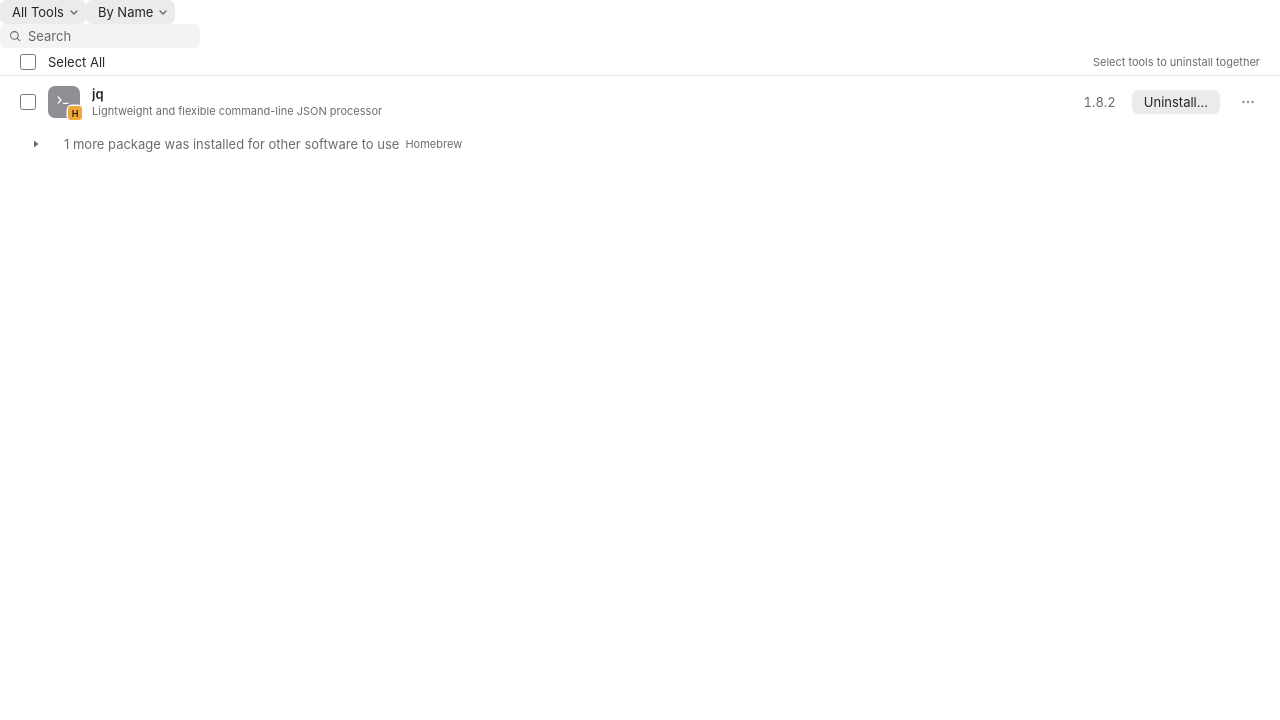
Test case: InstalledPage › opens the log once an uninstall has started and the focus is back on its row
The width and height of the screenshot is (1280, 720).
Expected: the text "jq" is shown, [92, 86, 104, 102]
Click the button "Uninstall…". click: click(1176, 102)
box: [1132, 90, 1220, 114]
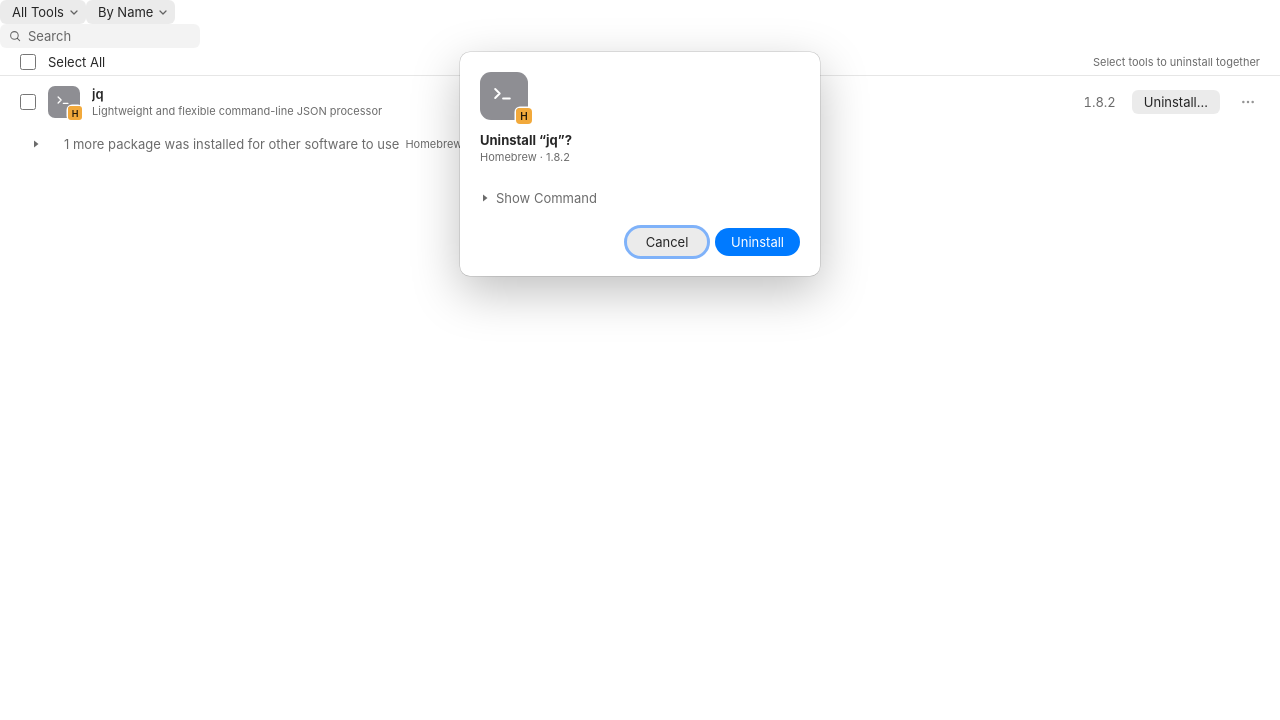
Expected: the button "Uninstall" is enabled
Click the button "Uninstall". click: click(758, 242)
box: [715, 228, 800, 256]
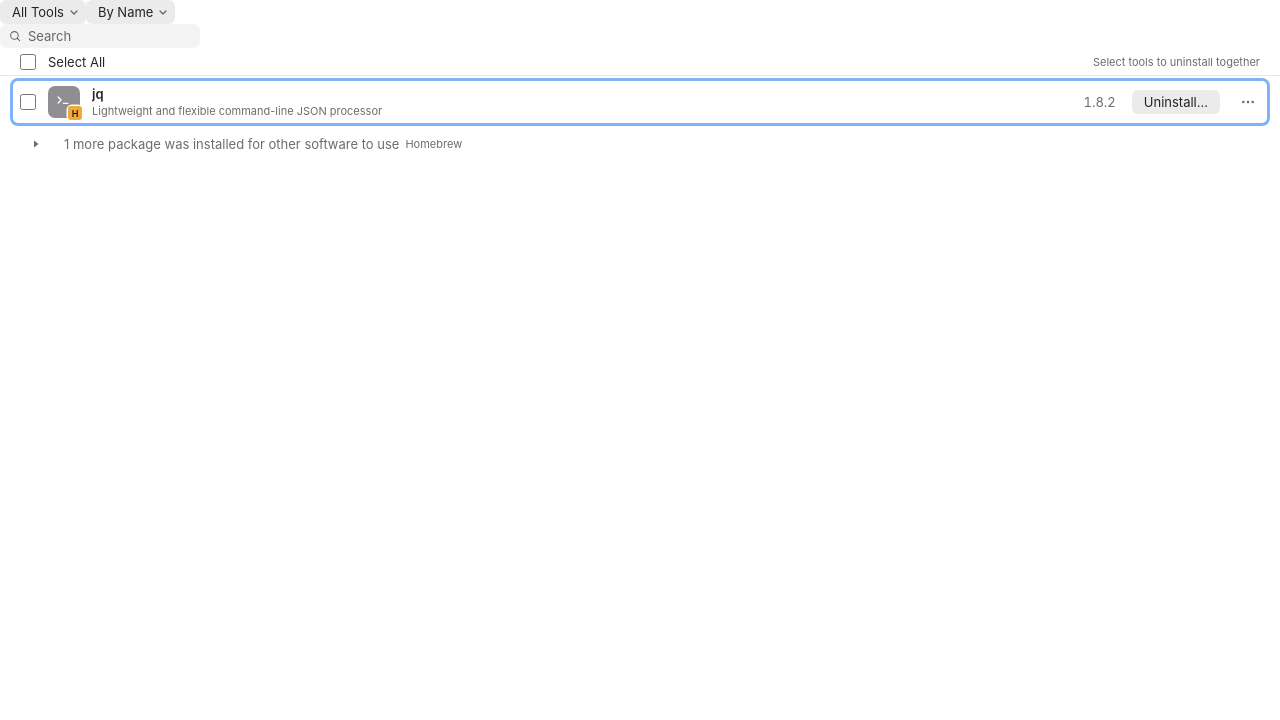
Expected: the dialog is gone
